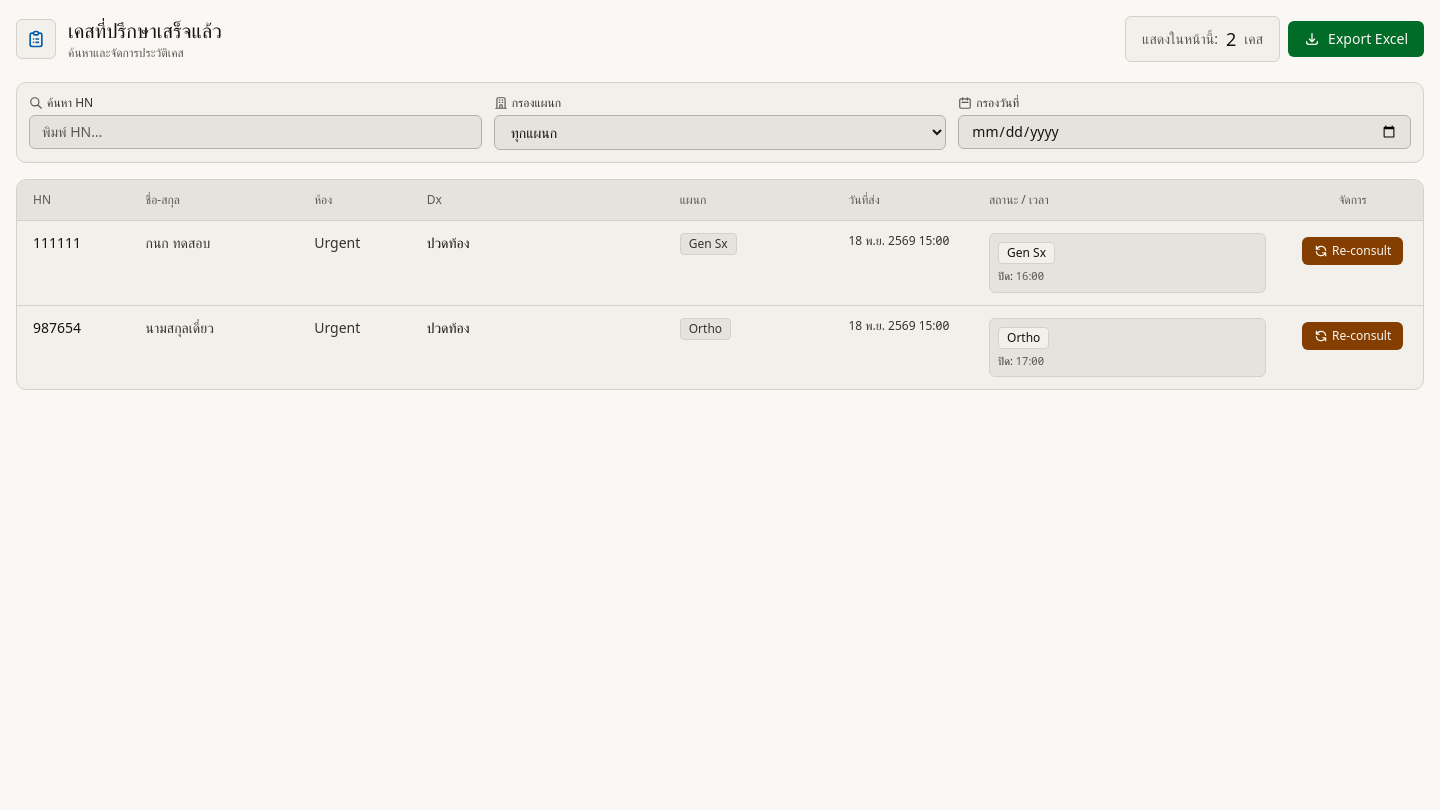
Test: CompletedPage re-consult failed drafts › labels local page department filtering accurately, displays lastName-only patient names in modal, and defers success toast until commit (Bugs #4, #16, #17)
The width and height of the screenshot is (1440, 810).
Select "Ortho" in the dropdown labelled "กรองแผนก". click: (720,132)
box: [494,115,946,150]
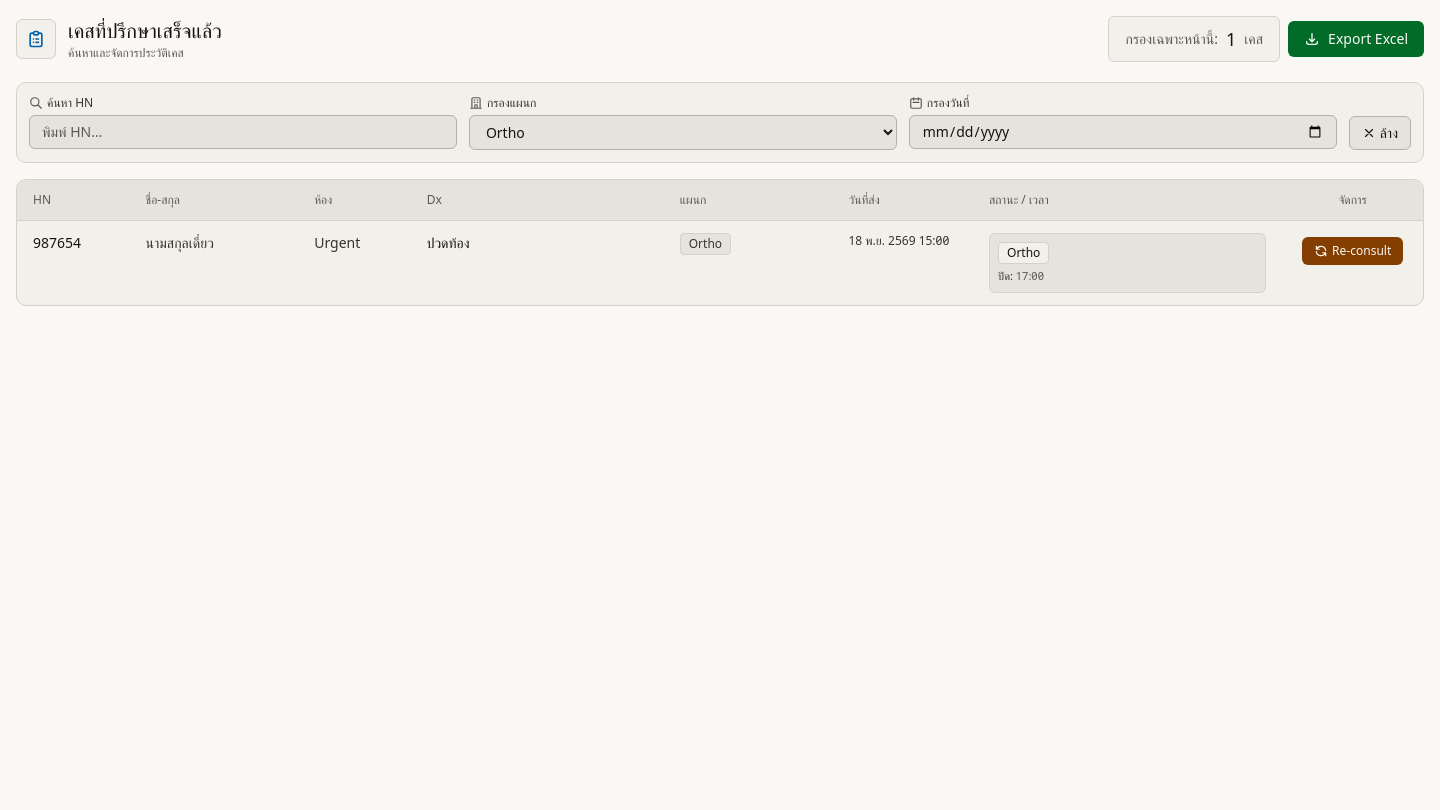
Check: the text "กรองเฉพาะหน้านี้:" is shown, box [1126,29,1218,49]
Click the button "Re-consult". click: (1353,251)
box: [1302,237,1403,265]
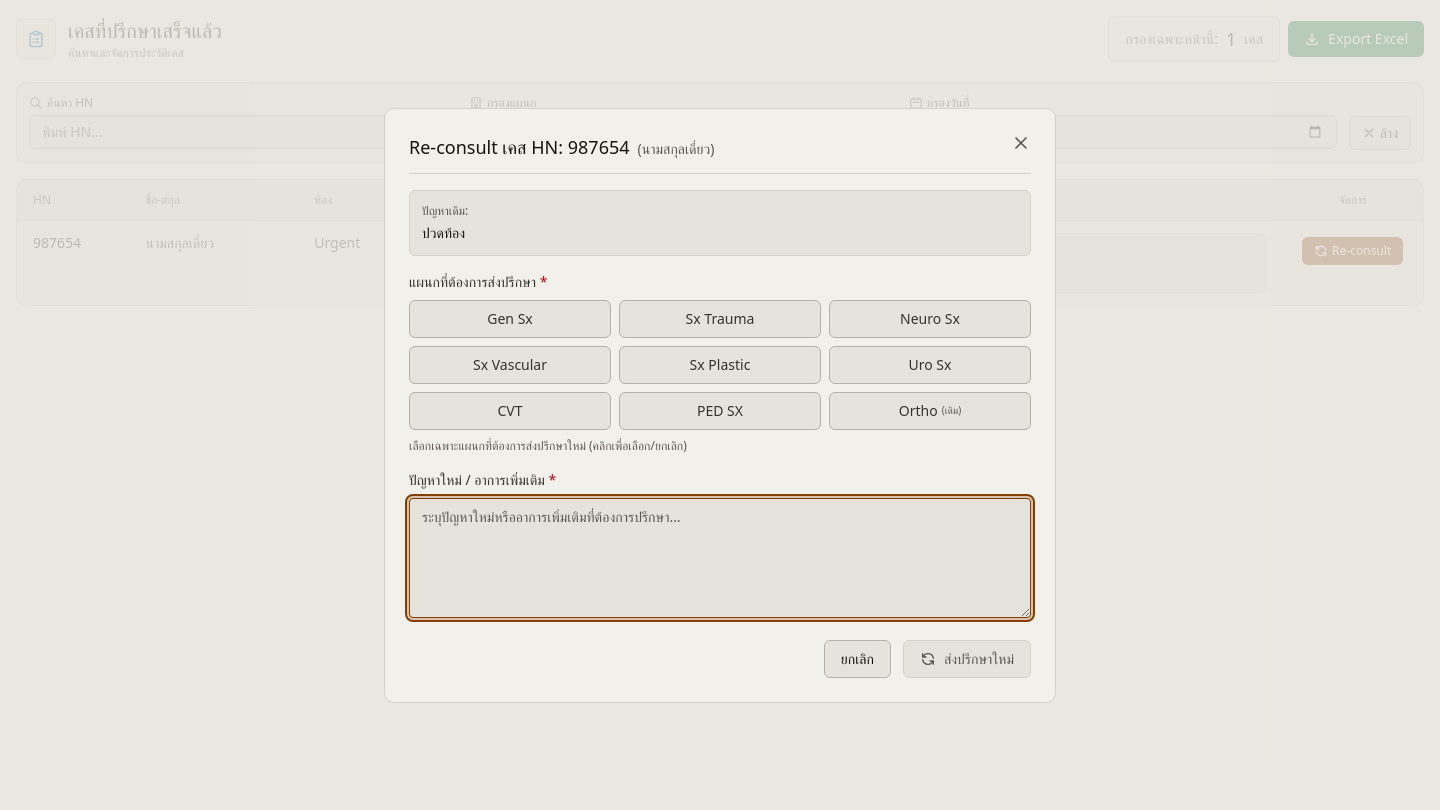
Check: the heading "Re-consult เคส HN: 987654(นามสกุลเดี่ยว)" is shown, box [409,132,714,160]
Click the button "Ortho (เดิม)". click: (930,410)
box: [829,392,1031,430]
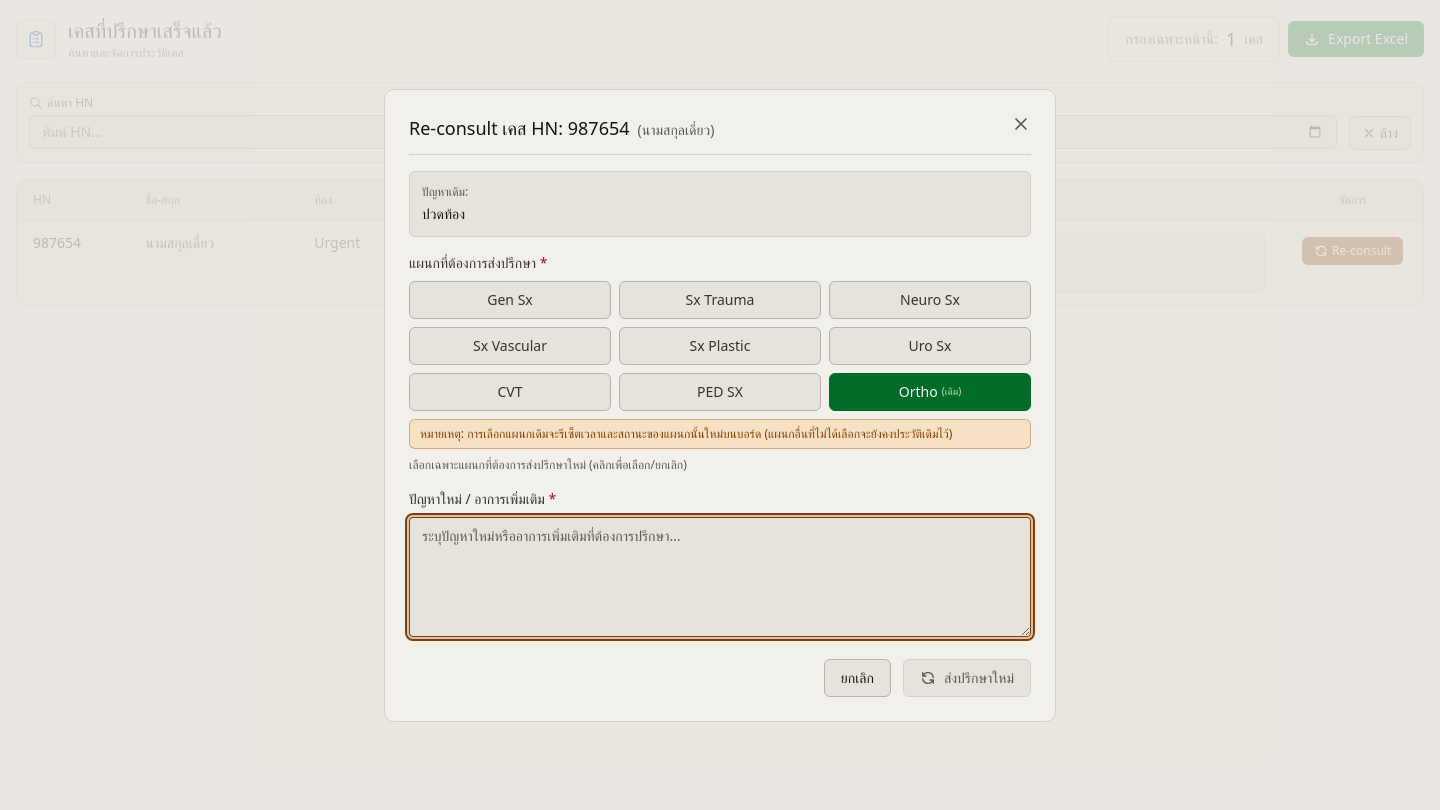
Type "Deferred commit check" into the text box labelled "ปัญหาใหม่ / อาการเพิ่มเติม *". click: (720,576)
box: [409,516,1031,636]
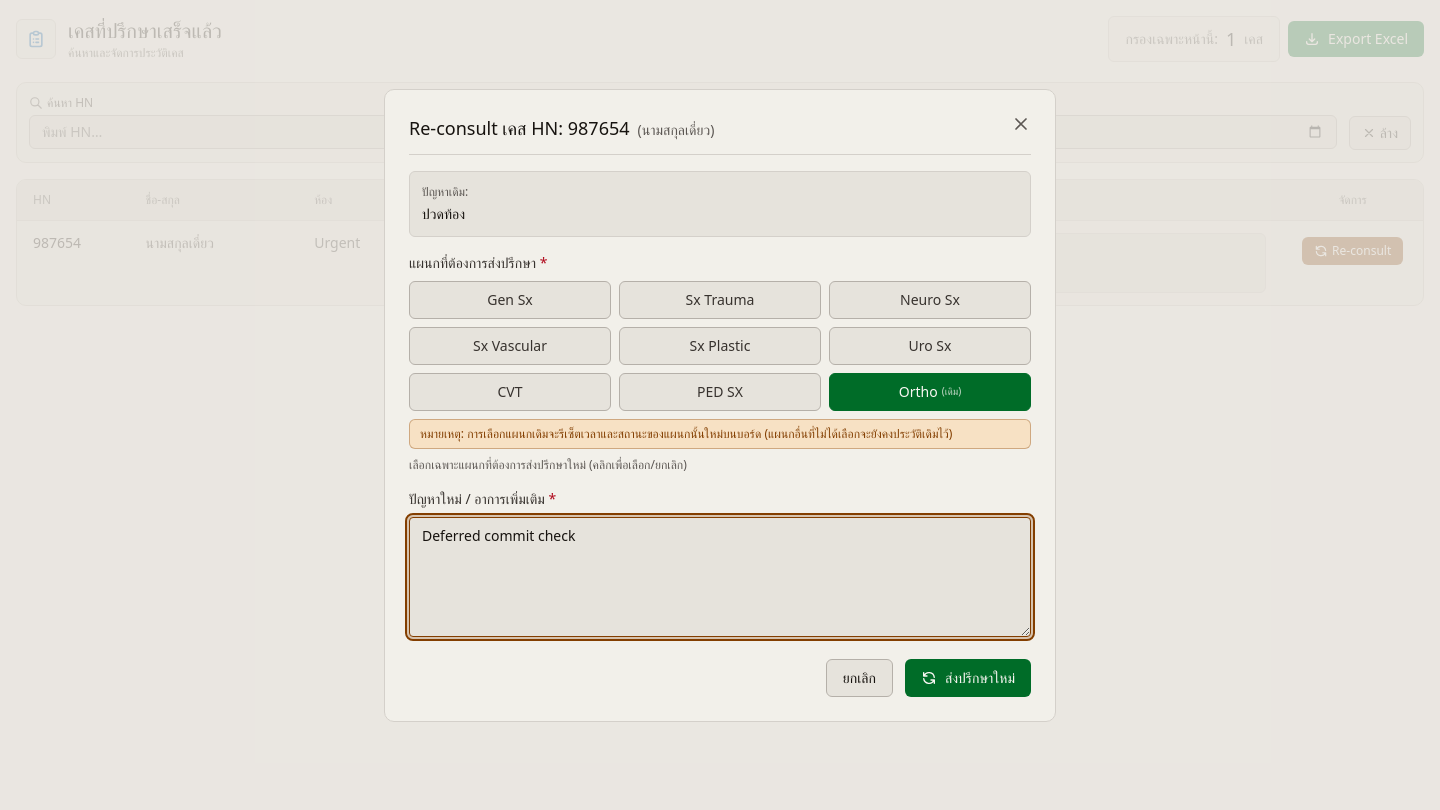
Click the button "ส่งปรึกษาใหม่". click: (968,678)
box: [905,658,1031,696]
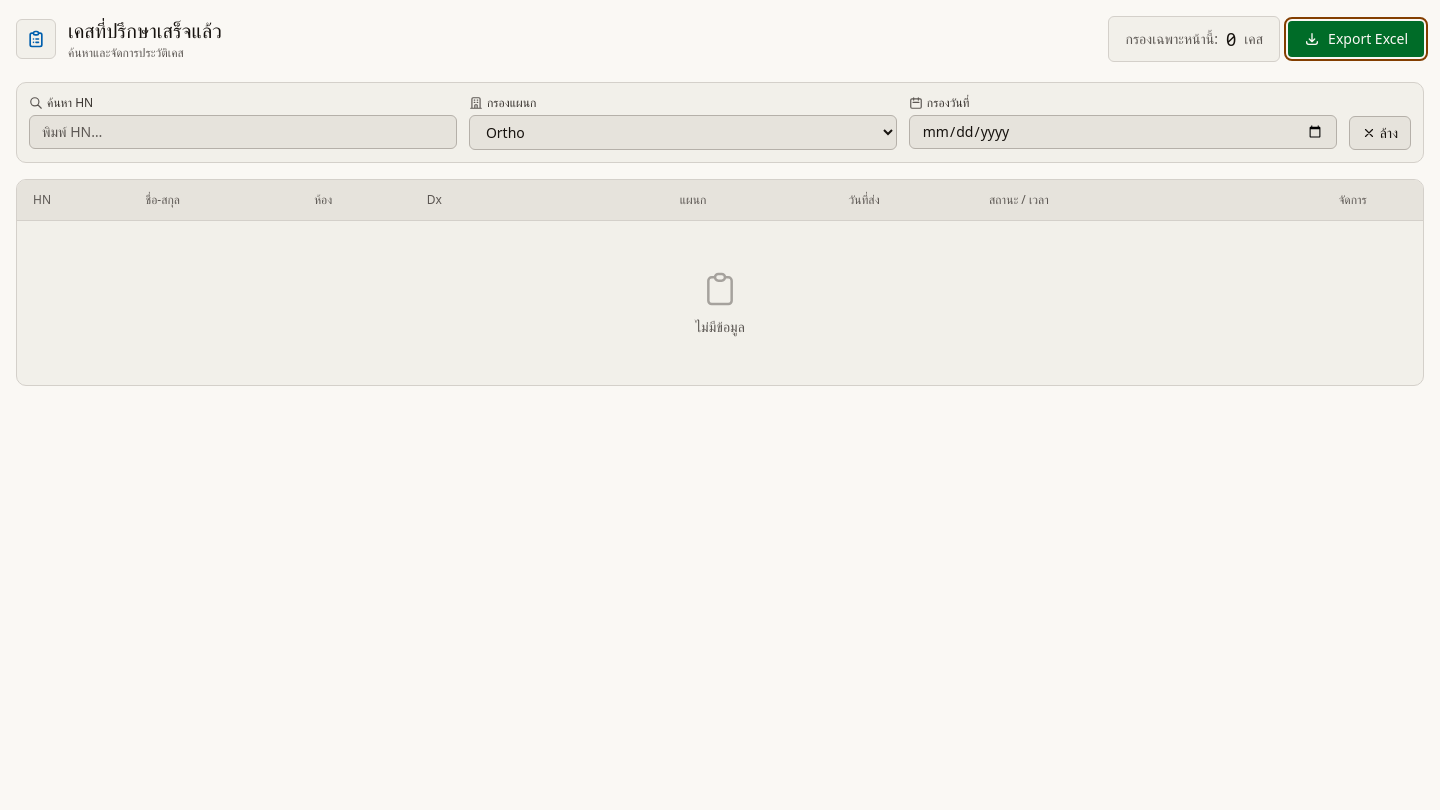
Check: the heading "Re-consult เคส" is gone
